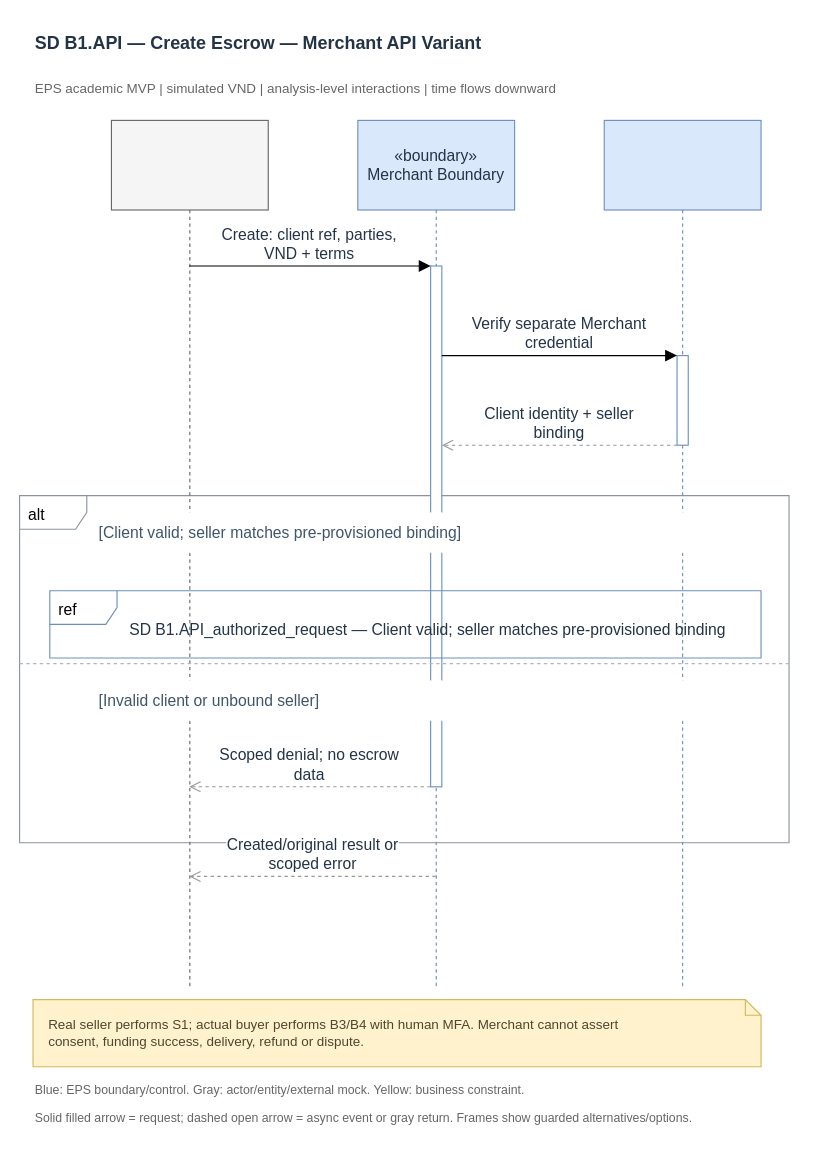
The diagram is 814 pixels wide and 1154 high, and some of its shapes have lost their labels. Each missing label, with the centre of its shape:
«control» Client Access: point (682, 553)
«external» Merchant / Marketplace: point (189, 553)
